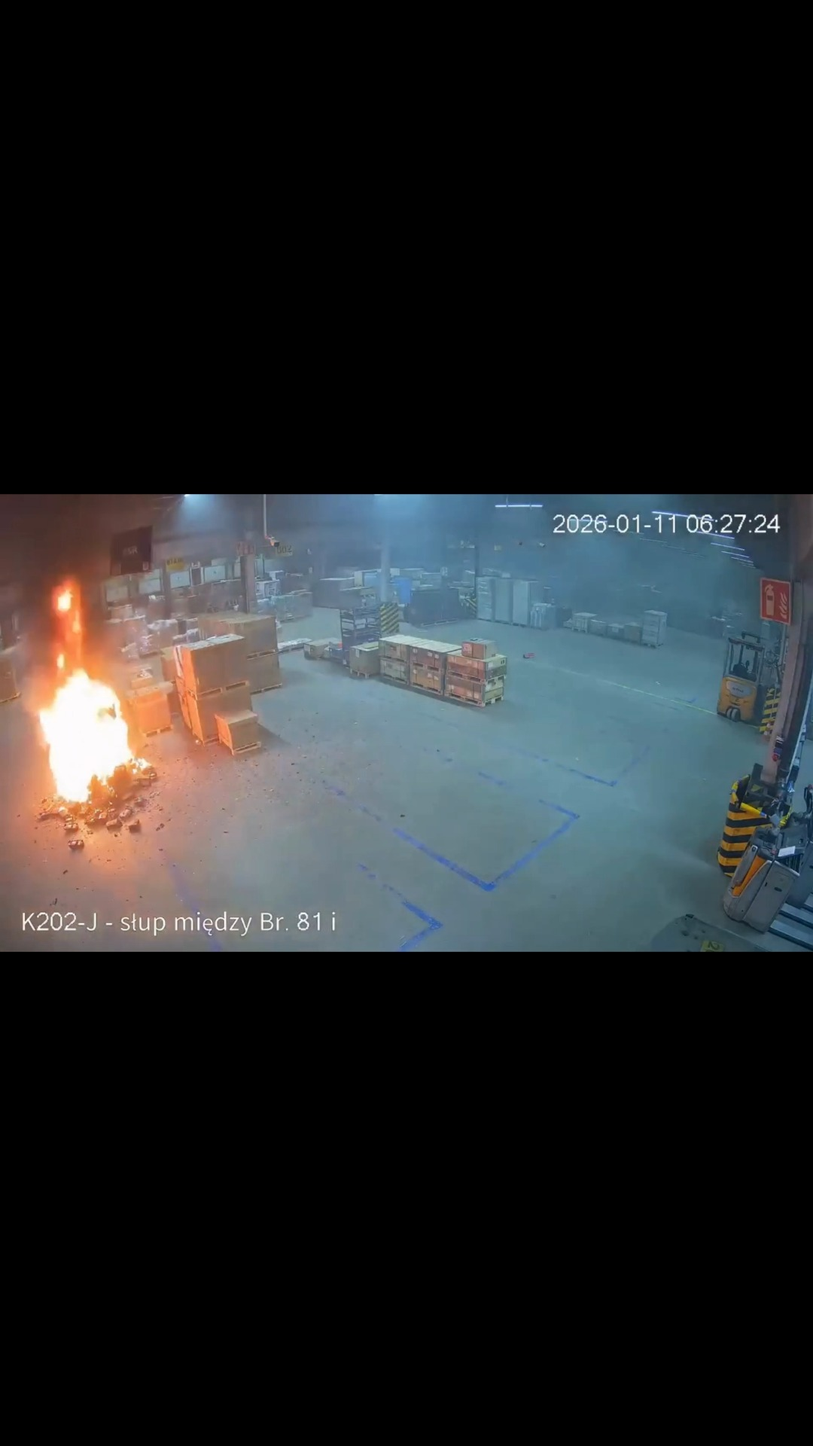fire: (37, 585, 149, 816)
smoke: (17, 495, 738, 676)
